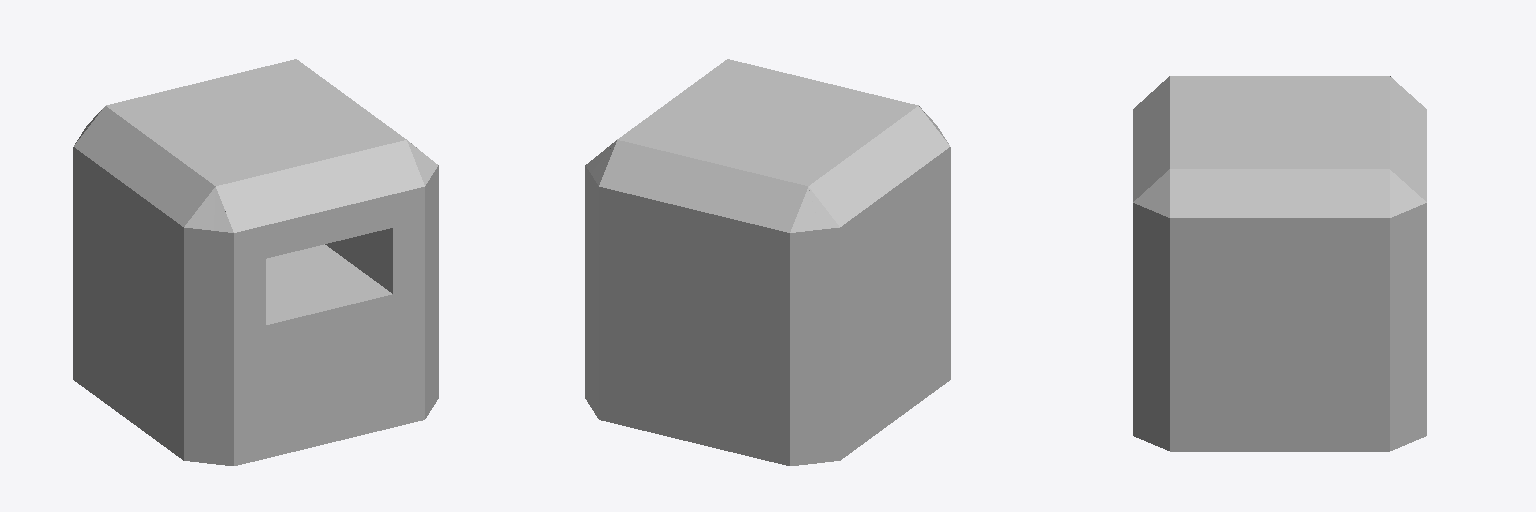
Rendered from smithing_furnace - Copy.obj.
The picture shows the model from 3 angles: view 1: azimuth 30°, elevation 25°; view 2: azimuth 150°, elevation 25°; view 3: azimuth 270°, elevation 25°; orthographic projection.
Visible parts, largest first — view 1: Cube_Cube.001; view 2: Cube_Cube.001; view 3: Cube_Cube.001.
Part boxes in pixels (x1,y1,x2,y2): Cube_Cube.001: (73,59,438,465); Cube_Cube.001: (585,59,950,465); Cube_Cube.001: (1133,76,1426,451).
Size of the model in its own units: 1 by 1 by 1.